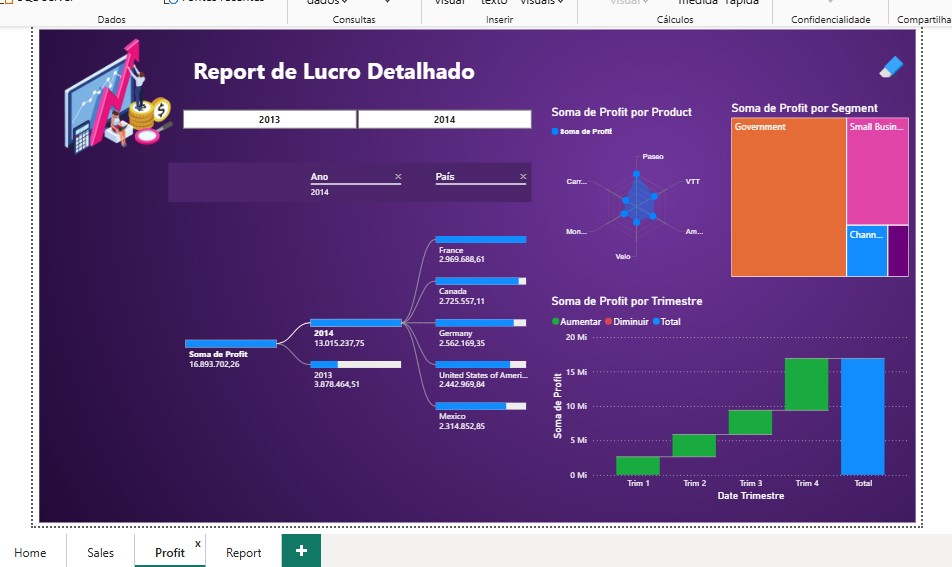

The dashboard page shown, as its layout file describes it:
{"tool":"powerbi","page":{"name":"Profit","canvas":[1280,720],"ordinal":2},"visuals":[{"type":"image","box":[0,0,1279.9,720],"z":0},{"type":"image","box":[33,13.4,180.9,178.5],"z":1000},{"type":"textbox","box":[226.1,36,432,54.7],"z":2000},{"type":"image","box":[1206.7,36,59,44.6],"z":3000},{"type":"slicer","fields":{"Values":["financials.Ano"]},"box":[190.1,113.8,551.5,38.9],"z":4000},{"type":"decompositionTreeVisual","fields":{"Analyze":["Sum(financials.Profit)"],"ExplainBy":["financials.Ano","financials.País"]},"box":[190.1,191.5,532.8,509.8],"z":5000},{"type":"RadarChart1446119667547","fields":{"Category":["financials.Product"],"Y":["Sum(financials.Profit)"]},"box":[741.6,113.8,254.9,246.2],"z":6000},{"type":"treemap","fields":{"Group":["financials.Segment"],"Values":["Sum(financials.Profit)"]},"box":[1000.8,108,265,257.8],"z":7000},{"type":"waterfallChart","fields":{"Category":["financials.Date.Variation.Hierarquia de datas.Trimestre"],"Y":["Sum(financials.Profit)"]},"box":[741.6,385.9,524.2,303.8],"z":8000}]}

Visuals, with their boxes on the page's 1280x720 design canvas (x1, y1, x2, y2). These are canvas units, not pixel positions in the 952x567 screenshot, which may show the page scaled, cropped or inside an application window:
image: [left=0, top=0, right=1280, bottom=720]
image: [left=33, top=13, right=214, bottom=192]
textbox: [left=226, top=36, right=658, bottom=91]
image: [left=1207, top=36, right=1266, bottom=81]
slicer - financials.Ano: [left=190, top=114, right=742, bottom=153]
decompositionTreeVisual - Sum(financials.Profit) x financials.Ano: [left=190, top=192, right=723, bottom=701]
RadarChart1446119667547 - financials.Product x Sum(financials.Profit): [left=742, top=114, right=996, bottom=360]
treemap - financials.Segment x Sum(financials.Profit): [left=1001, top=108, right=1266, bottom=366]
waterfallChart - financials.Date.Variation.Hierarquia de datas.Trimestre x Sum(financials.Profit): [left=742, top=386, right=1266, bottom=690]
